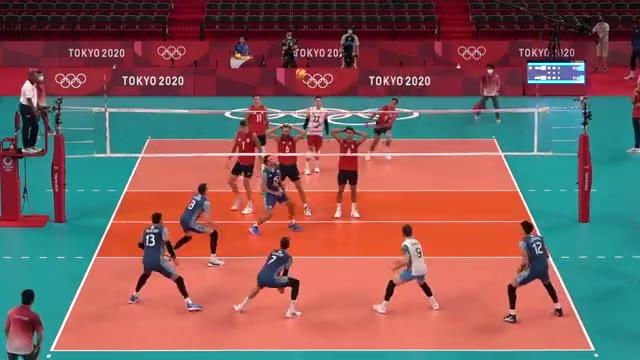ball: (294, 65, 309, 80)
